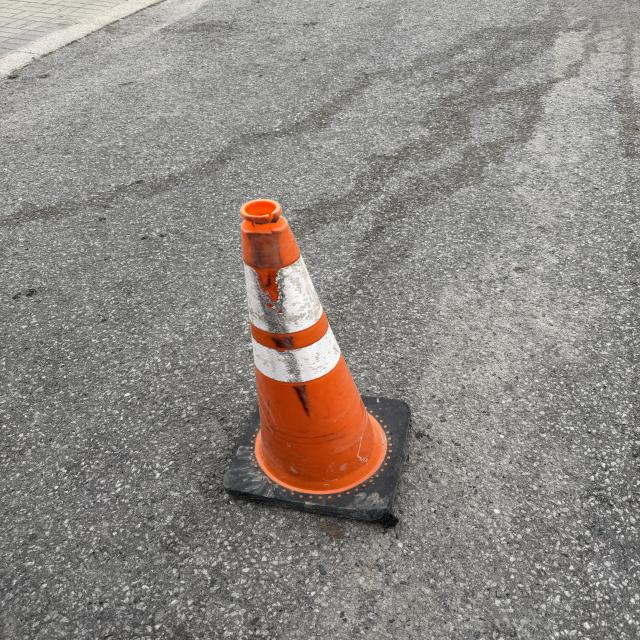Traffic Cone: (213, 194, 417, 528)
